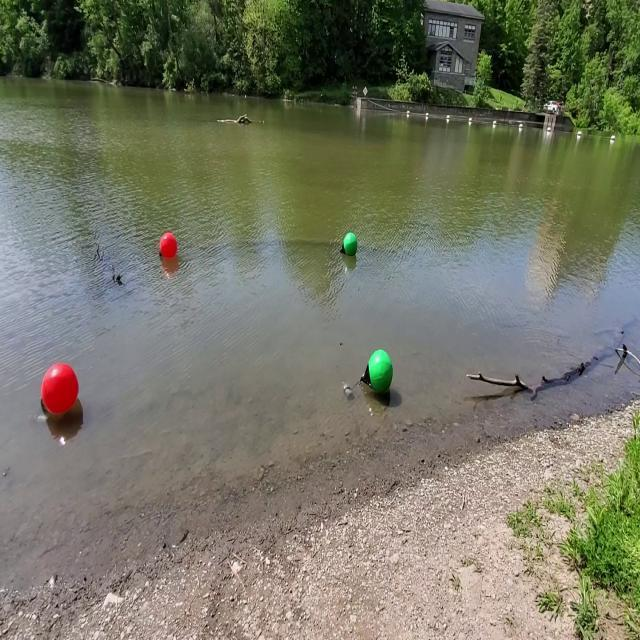buoy: (41, 361, 79, 414), (363, 350, 393, 394), (158, 230, 178, 260), (342, 232, 358, 256)
